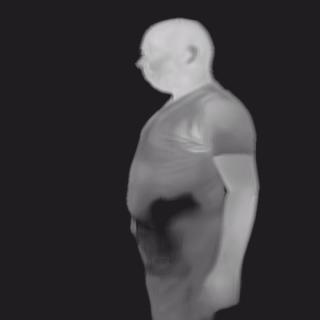Gun: (148, 191, 200, 258)
